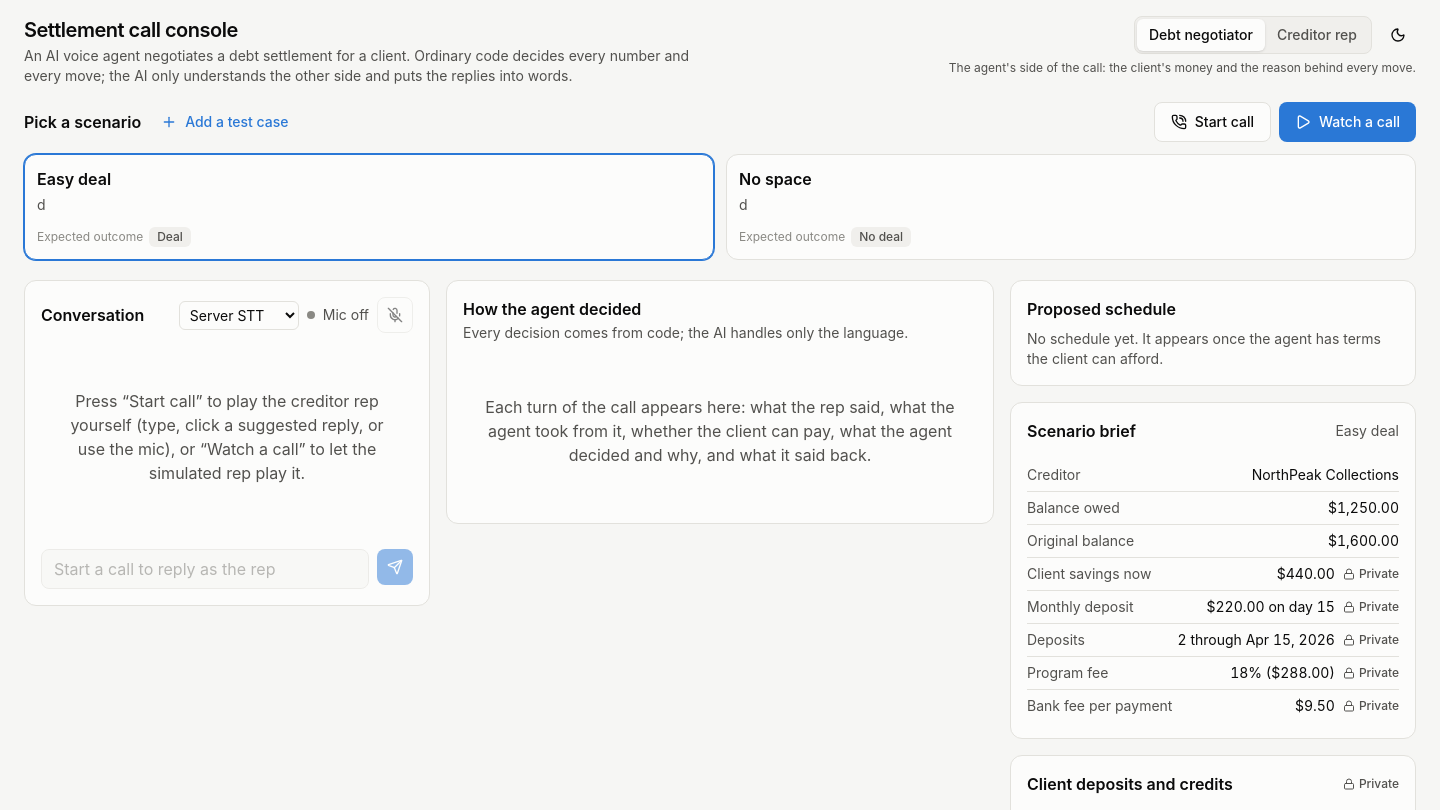
Test case: LiveApp Creditor rep view › has no decision trace column and no client ledger
This screenshot has width=1440, height=810.
Check: the heading "Client deposits and credits Private" is shown, box [1027,774,1399,794]
Click the radio button labelled "Creditor rep". click: point(1317, 35)
box: [1265,19,1369,51]
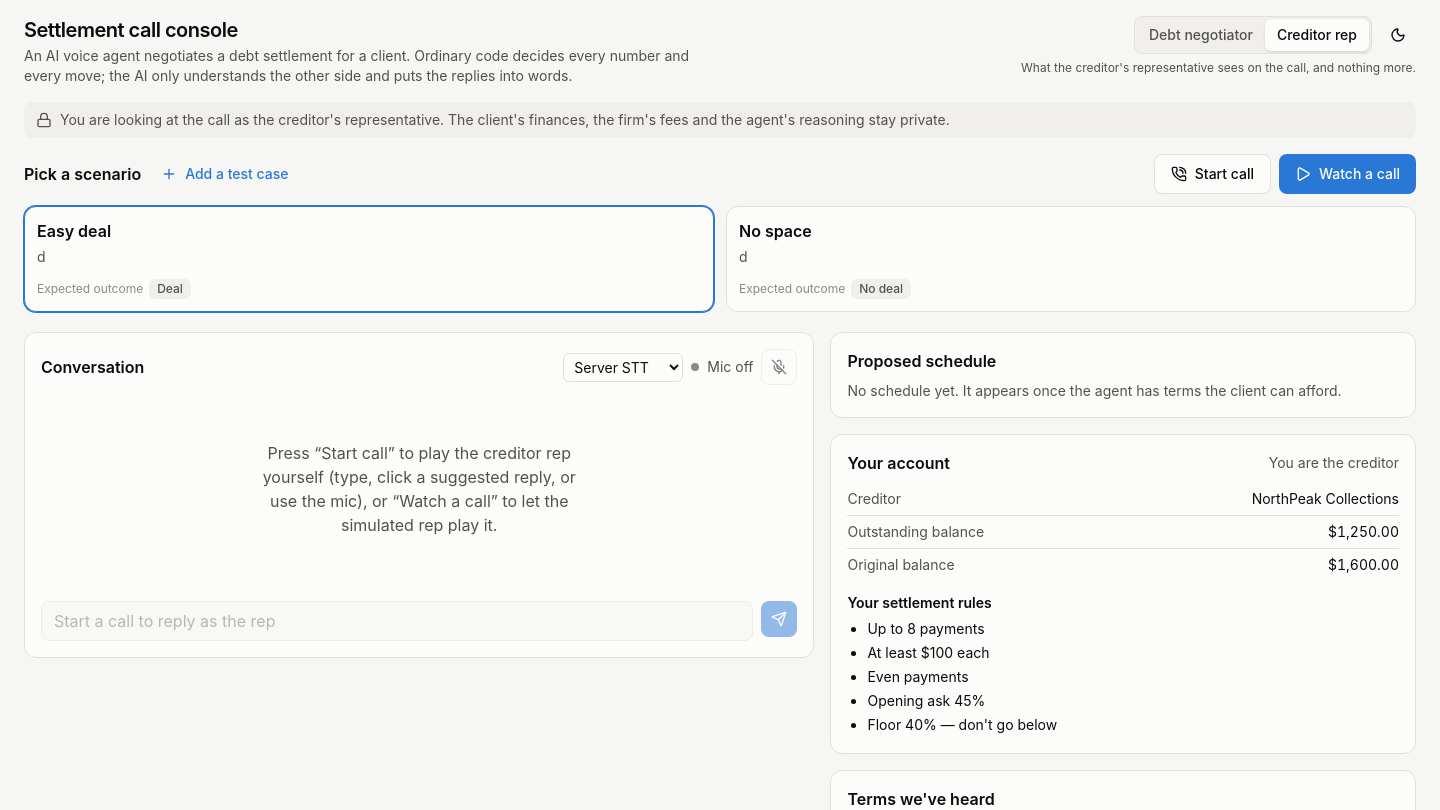
Check: the heading "Your account" is shown, box [848,451,950,475]
Check: the heading "How the agent decided" is gone
Check: the text "$220.00" is gone
